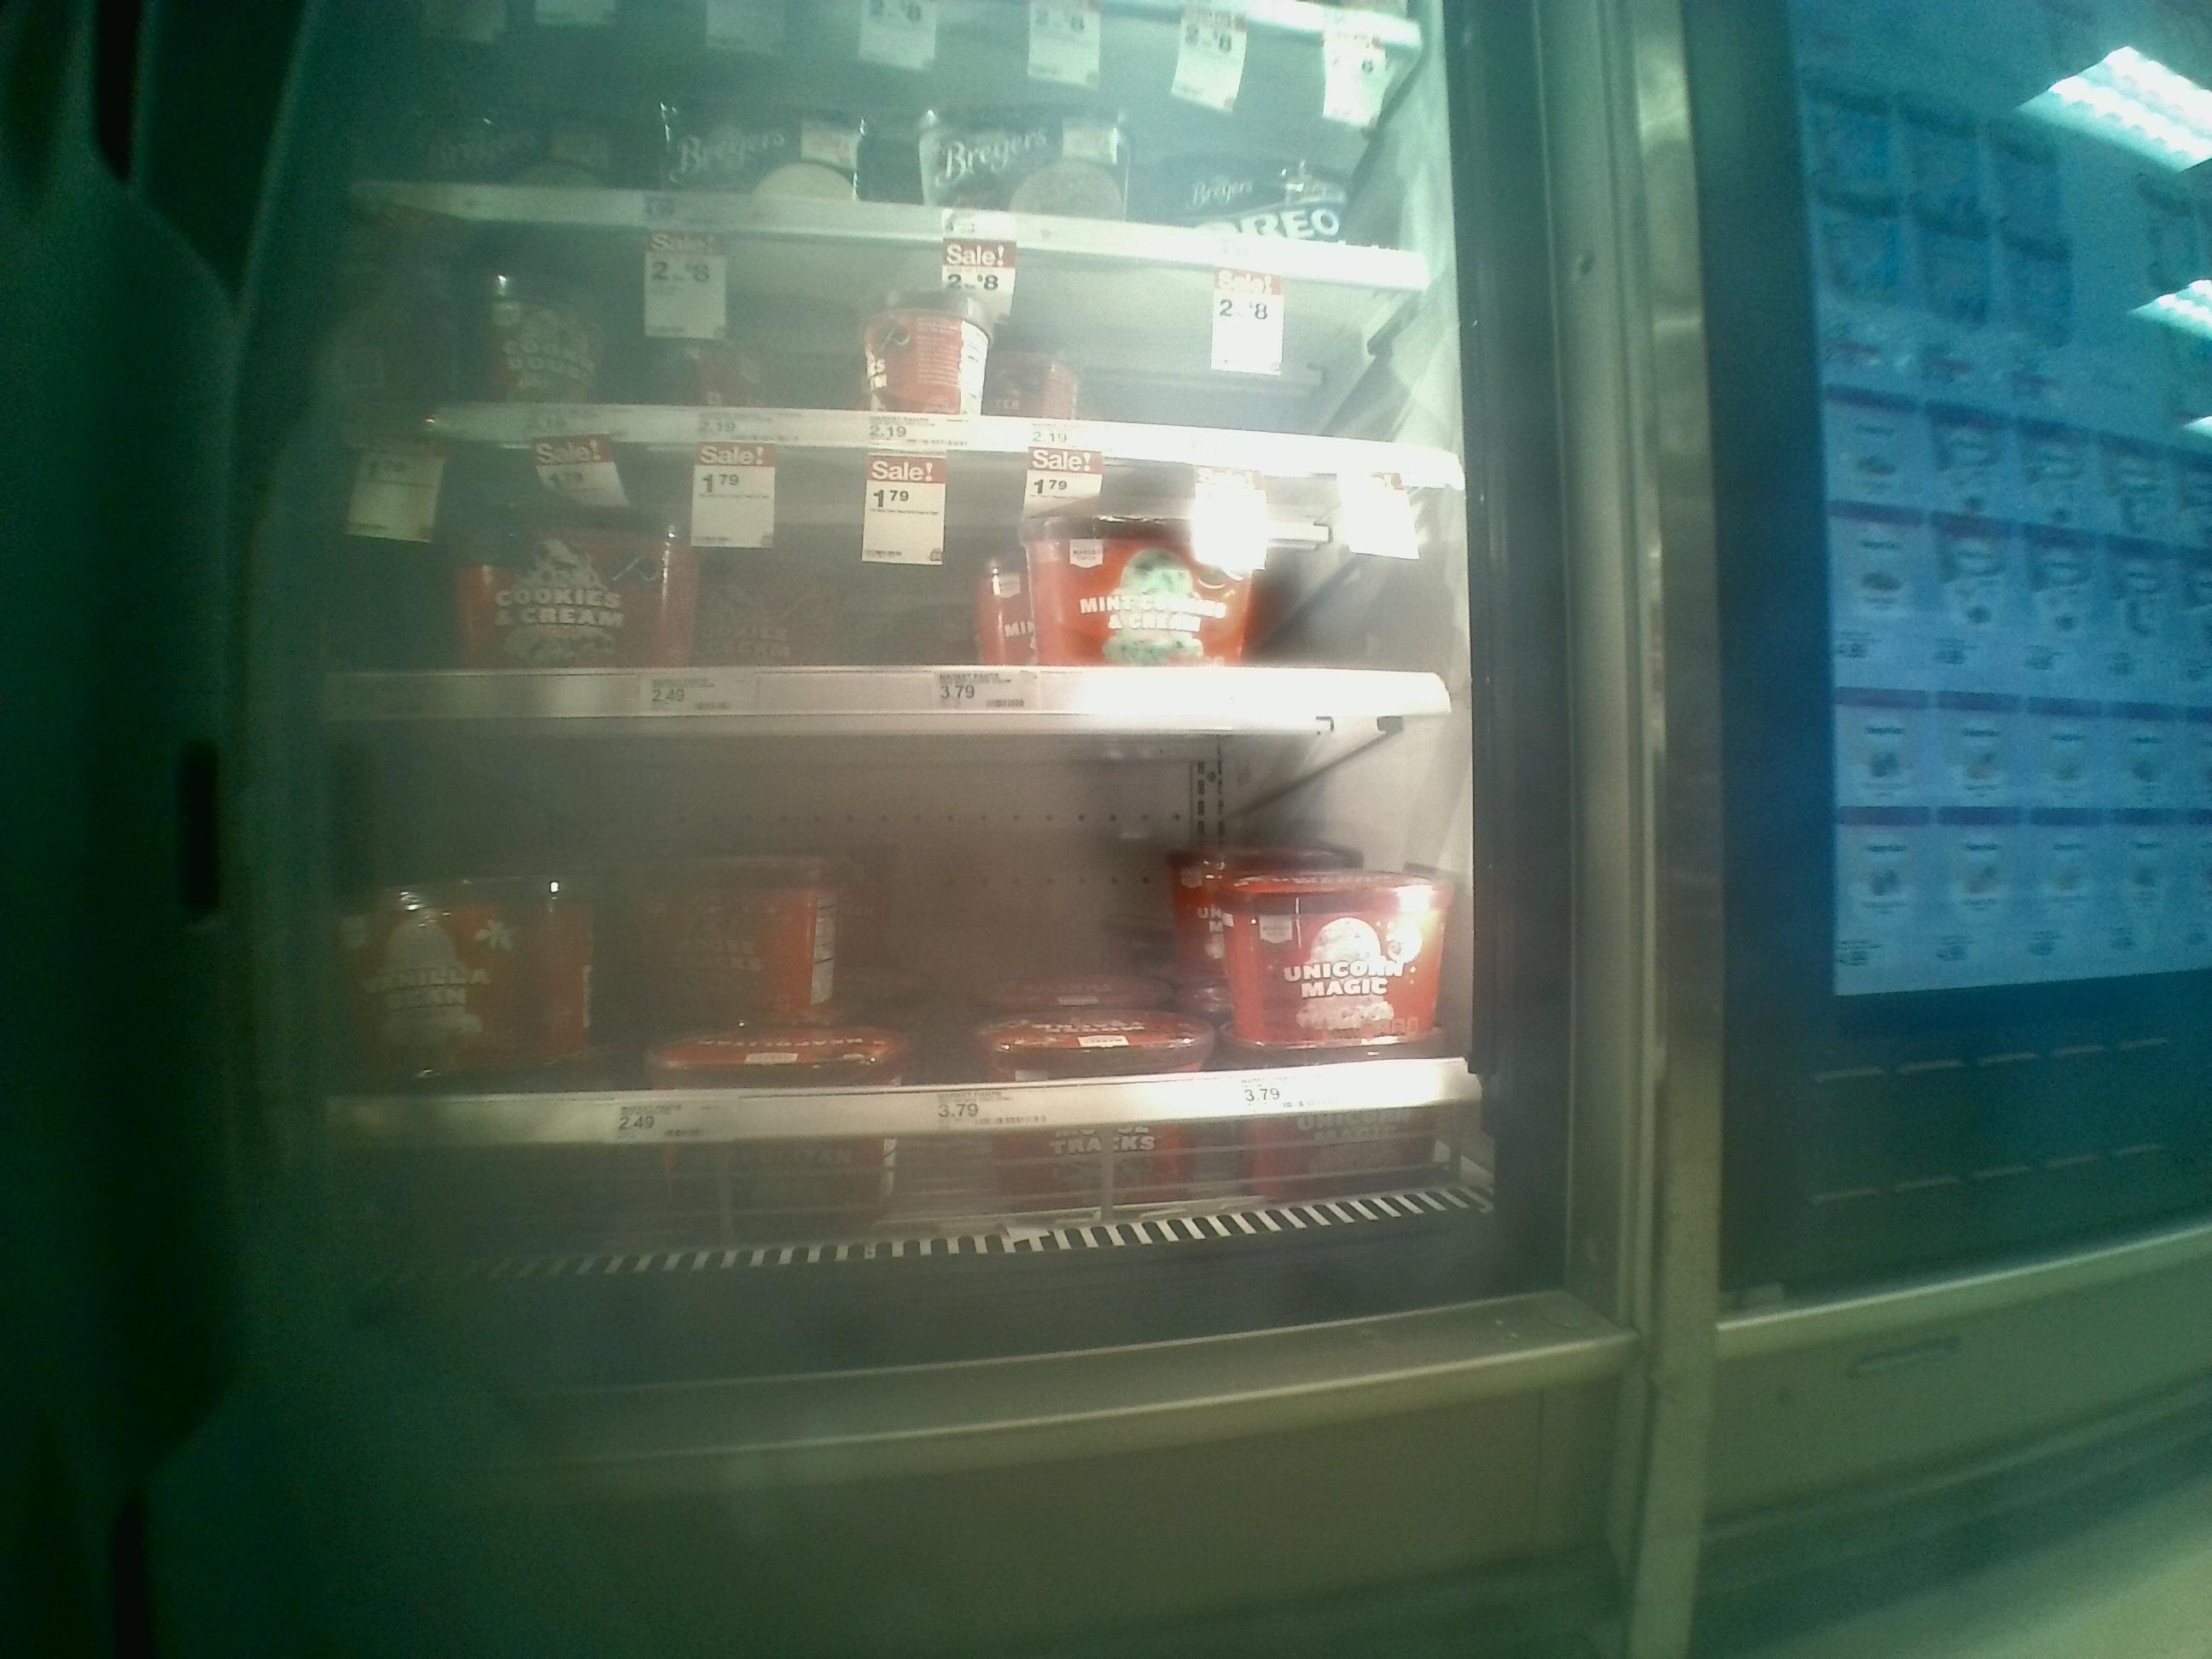shelf: (334, 727, 1496, 1171), (334, 443, 1470, 723), (336, 209, 1470, 483)
